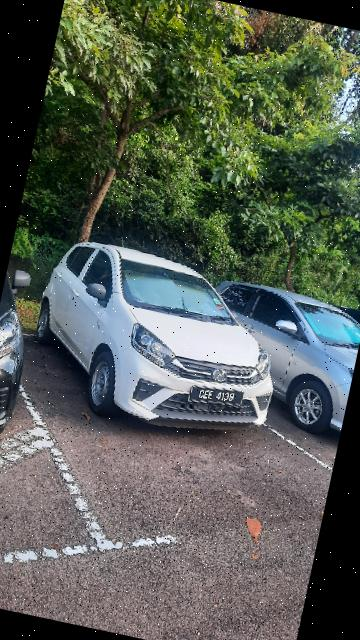License_Plate: (186, 383, 247, 413)
car: (21, 231, 305, 452)
